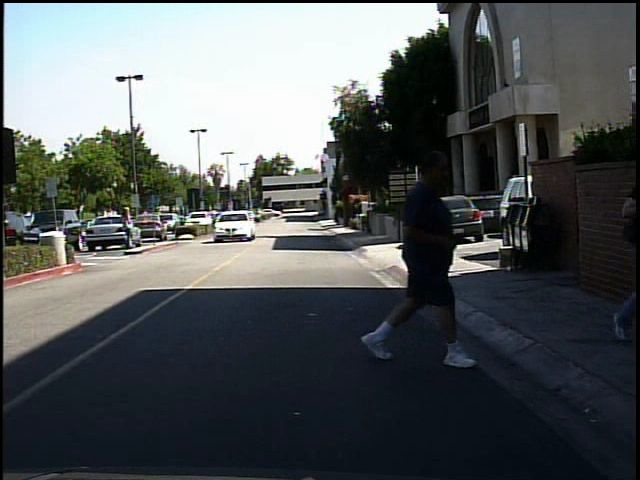person: (372, 139, 478, 375), (115, 203, 138, 254)
